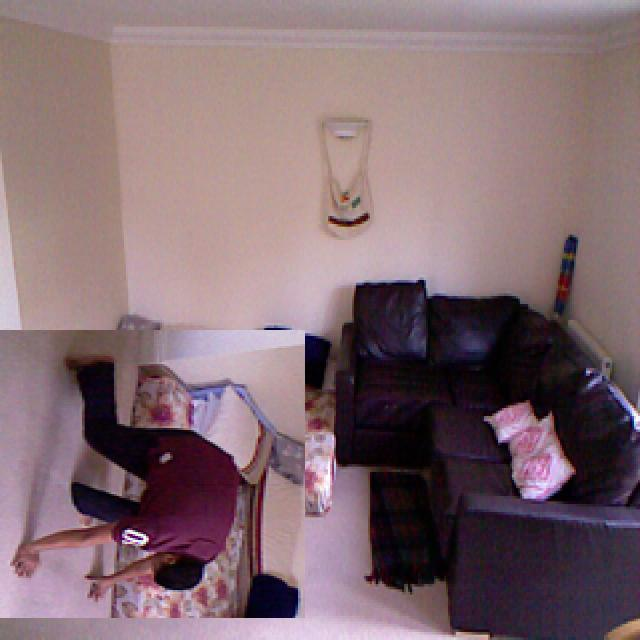Fall: (21, 324, 265, 587)
